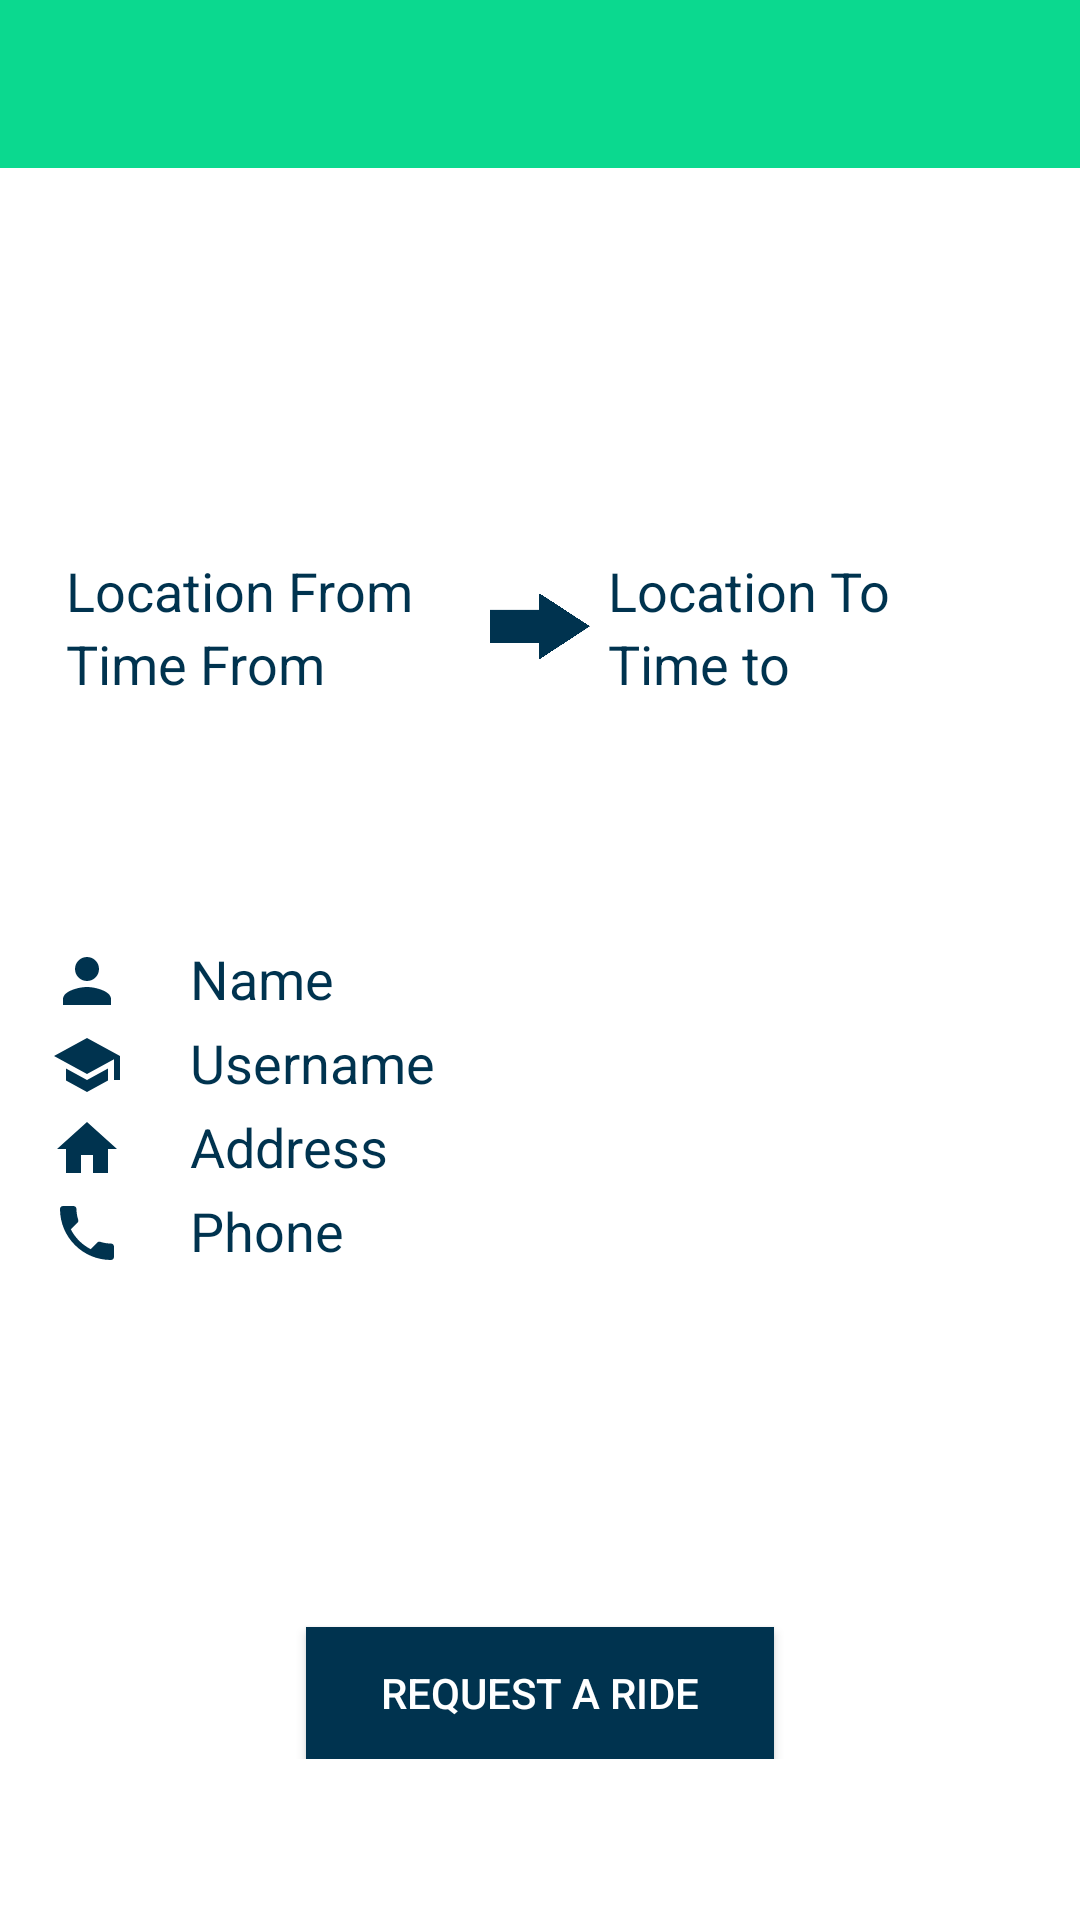

Point at icon controls on the screen. Image size 1080px x 1920px, points as (x,y).
arrow: (540,626)
